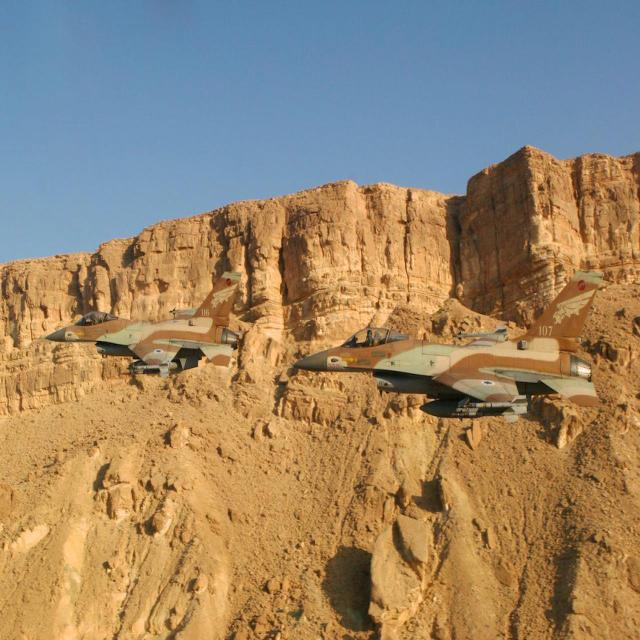MIL_Plane: (290, 270, 604, 424), (36, 272, 242, 378)
